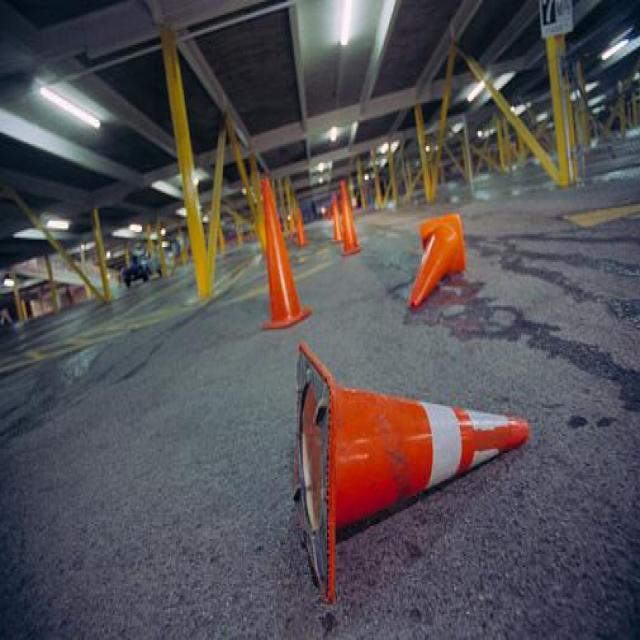Cone: (296, 341, 528, 595), (256, 174, 314, 335), (409, 214, 469, 316), (337, 178, 361, 258), (294, 198, 309, 247), (329, 193, 344, 241)
